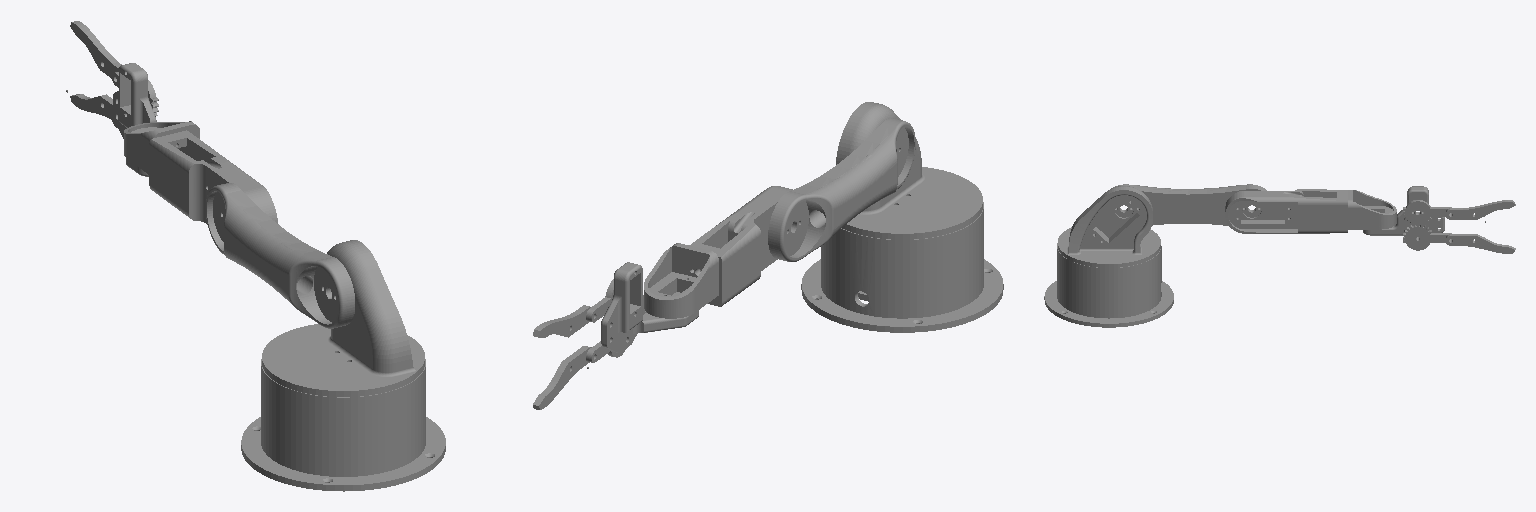
URDF robot description (onshape):
<robot name="onshape">
<link name="base">
<visual>
<origin xyz="0.001402378431521355889 -0.040152130182832479477 0.0047179359060526022268" rpy="-1.57079632679489678 -0 0" />
<geometry>
<mesh filename="package://duman_description/models/base.stl"/>
</geometry>
<material name="base_material">
<color rgba="0.62745098039215685404 0.62745098039215685404 0.62745098039215685404 1.0"/>
</material>
</visual>
<collision>
<origin xyz="0.001402378431521355889 -0.040152130182832479477 0.0047179359060526022268" rpy="-1.57079632679489678 -0 0" />
<geometry>
<mesh filename="package://duman_description/models/base.stl"/>
</geometry>
</collision>
<inertial>
<origin xyz="0.001402387154487819837 -0.039055113999284497839 0.026824037016155939661" rpy="0 0 0"/>
<mass value="1.9998887505119995467" />
<inertia ixx="0.0028505289311519942282" ixy="-7.116077478307083929e-10"  ixz="1.4844253339976727985e-10" iyy="0.0027242990722169493391" iyz="7.9478202315762654052e-05" izz="0.0043475671173903033054" />
</inertial>
</link>

<link name="waist">
<visual>
<origin xyz="0 0 6.9388939039072283776e-18" rpy="3.141592653589793116 -9.5170973626377845172e-34 -7.7783123764239271502e-33" />
<geometry>
<mesh filename="package://duman_description/models/waist.stl"/>
</geometry>
<material name="waist_material">
<color rgba="0.62745098039215685404 0.62745098039215685404 0.62745098039215685404 1.0"/>
</material>
</visual>
<collision>
<origin xyz="0 0 6.9388939039072283776e-18" rpy="3.141592653589793116 -9.5170973626377845172e-34 -7.7783123764239271502e-33" />
<geometry>
<mesh filename="package://duman_description/models/waist.stl"/>
</geometry>
</collision>
<inertial>
<origin xyz="0.0074945384719732385109 -0.0014294797341590967897 -0.019382837320359828925" rpy="0 0 0"/>
<mass value="0.092059501321271233754" />
<inertia ixx="8.4940822070763333154e-05" ixy="3.1823006080747657881e-07"  ixz="8.0371472269756664308e-06" iyy="6.28516293944667595e-05" iyz="-8.4124008803628408945e-06" izz="7.5166939695310772932e-05" />
</inertial>
</link>

<link name="arm_01">
<visual>
<origin xyz="0 0 -0.021000000000000001305" rpy="-1.570796326794896558 -0 0" />
<geometry>
<mesh filename="package://duman_description/models/arm_01.stl"/>
</geometry>
<material name="arm_01_material">
<color rgba="0.62745098039215685404 0.62745098039215685404 0.62745098039215685404 1.0"/>
</material>
</visual>
<collision>
<origin xyz="0 0 -0.021000000000000001305" rpy="-1.570796326794896558 -0 0" />
<geometry>
<mesh filename="package://duman_description/models/arm_01.stl"/>
</geometry>
</collision>
<inertial>
<origin xyz="1.4118928119592636529e-07 0.059999824248745545208 -0.0077715955787856722328" rpy="0 0 0"/>
<mass value="0.080081747849855458576" />
<inertia ixx="0.00012970764013443367049" ixy="6.2337379079985595992e-10"  ixz="1.8765984521855420639e-10" iyy="1.1536398267604721336e-05" iyz="3.6199027491044549358e-12" izz="0.00013579564494234391174" />
</inertial>
</link>

<link name="arm_02">
<visual>
<origin xyz="0.034750000000000016986 0 0" rpy="1.570796326794896558 -5.8276537979193836182e-33 8.3816471179931208447e-31" />
<geometry>
<mesh filename="package://duman_description/models/arm_02.stl"/>
</geometry>
<material name="arm_02_material">
<color rgba="0.62745098039215685404 0.62745098039215685404 0.62745098039215685404 1.0"/>
</material>
</visual>
<collision>
<origin xyz="0.034750000000000016986 0 0" rpy="1.570796326794896558 -5.8276537979193836182e-33 8.3816471179931208447e-31" />
<geometry>
<mesh filename="package://duman_description/models/arm_02.stl"/>
</geometry>
</collision>
<inertial>
<origin xyz="0.041712028774720542879 3.1608016163132355561e-05 -0.0057199411333240688868" rpy="0 0 0"/>
<mass value="0.058871724077163213595" />
<inertia ixx="1.0903197339626600928e-05" ixy="-8.6693131370338083757e-08"  ixz="-5.0399911663230007241e-07" iyy="6.4250083309512761058e-05" iyz="-2.9589785247048074638e-10" izz="6.832931926439171405e-05" />
</inertial>
</link>

<link name="arm_03">
<visual>
<origin xyz="0.004999999999999997502 0 0" rpy="3.141592653589793116 -1.1532389821101088889e-32 -2.6404056403860553927e-32" />
<geometry>
<mesh filename="package://duman_description/models/arm_03.stl"/>
</geometry>
<material name="arm_03_material">
<color rgba="0.62745098039215685404 0.62745098039215685404 0.62745098039215685404 1.0"/>
</material>
</visual>
<collision>
<origin xyz="0.004999999999999997502 0 0" rpy="3.141592653589793116 -1.1532389821101088889e-32 -2.6404056403860553927e-32" />
<geometry>
<mesh filename="package://duman_description/models/arm_03.stl"/>
</geometry>
</collision>
<inertial>
<origin xyz="0.0050459674246820544405 -0.0052709836521303756601 -0.017807944241869835822" rpy="0 0 0"/>
<mass value="0.020587869336073170989" />
<inertia ixx="4.8747901077285755043e-06" ixy="-4.9857010404760316267e-09"  ixz="-1.4442552409285210189e-08" iyy="6.2597253867434255134e-06" iyz="-7.2145292659714469307e-07" izz="3.2611923197073779561e-06" />
</inertial>
</link>

<link name="gripper_base">
<visual>
<origin xyz="-0.040500000000000008216 0.0089999999999999941158 0.016000000000000000333" rpy="-1.570796326794896558 -1.570796326794896558 0" />
<geometry>
<mesh filename="package://duman_description/models/gripper_base.stl"/>
</geometry>
<material name="gripper_base_material">
<color rgba="0.62745098039215685404 0.62745098039215685404 0.62745098039215685404 1.0"/>
</material>
</visual>
<collision>
<origin xyz="-0.040500000000000008216 0.0089999999999999941158 0.016000000000000000333" rpy="-1.570796326794896558 -1.570796326794896558 0" />
<geometry>
<mesh filename="package://duman_description/models/gripper_base.stl"/>
</geometry>
</collision>
<inertial>
<origin xyz="-0.024927882918116345268 0.0064403493394040133013 0.0041575539601085009789" rpy="0 0 0"/>
<mass value="0.020050762012827790665" />
<inertia ixx="4.1262174131169446954e-06" ixy="1.6759752673379916494e-06"  ixz="2.2324216722379258954e-06" iyy="1.1260208646654853469e-05" iyz="-5.0616272175732675626e-07" izz="9.0721203498918214539e-06" />
</inertial>
</link>

<link name="end_effector">
  <visual>
    <geometry>
      <box size="0.001 0.001 0.001"/>
    </geometry>
    <material name="yellow">
      <color rgba="0.5 0.5 0.5 0.1"/>
    </material>
  </visual>
  <collision>
    <geometry>
      <box size="0.001 0.001 0.001"/>
    </geometry>
  </collision>
  <inertial>
    <mass value="0.0"/>
    <inertia ixx="0.0" ixy="0.0" ixz="0.0" iyy="0.0" iyz="0.0" izz="0.0"/>
  </inertial>
</link>

<link name="part_1_gear_2">
<visual>
<origin xyz="0 0 -0.0019999999999999983069" rpy="-1.570796326794896558 -9.1979407139349908072e-32 -2.4613384689265595164e-30" />
<geometry>
<mesh filename="package://duman_description/models/part_1_gear_2.stl"/>
</geometry>
<material name="part_1_gear_2_material">
<color rgba="0.62745098039215685404 0.62745098039215685404 0.62745098039215685404 1.0"/>
</material>
</visual>
<collision>
<origin xyz="0 0 -0.0019999999999999983069" rpy="-1.570796326794896558 -9.1979407139349908072e-32 -2.4613384689265595164e-30" />
<geometry>
<mesh filename="package://duman_description/models/part_1_gear_2.stl"/>
</geometry>
</collision>
<inertial>
<origin xyz="0.0055512025623058831522 0.00058171571194625922626 -0.0019999999999999983069" rpy="0 0 0"/>
<mass value="0.0032272602916286396643" />
<inertia ixx="1.1251893487001180171e-07" ixy="1.042153912886415573e-08"  ixz="5.7266214798550208274e-39" iyy="4.6086035795310490803e-07" iyz="-2.8469444191377108132e-37" izz="5.6477326537877373765e-07" />
</inertial>
</link>

<link name="gripper">
<visual>
<origin xyz="0 1.3877787807814456755e-17 0" rpy="-3.141592653589793116 -3.2279214209219390194e-30 2.7332797770738606552e-30" />
<geometry>
<mesh filename="package://duman_description/models/gripper.stl"/>
</geometry>
<material name="gripper_material">
<color rgba="0.62745098039215685404 0.62745098039215685404 0.62745098039215685404 1.0"/>
</material>
</visual>
<collision>
<origin xyz="0 1.3877787807814456755e-17 0" rpy="-3.141592653589793116 -3.2279214209219390194e-30 2.7332797770738606552e-30" />
<geometry>
<mesh filename="package://duman_description/models/gripper.stl"/>
</geometry>
</collision>
<inertial>
<origin xyz="0.025526730145779431141 -0.0033673571434033786574 -0.0022499977309997721067" rpy="0 0 0"/>
<mass value="0.0031933072162409399143" />
<inertia ixx="7.6192801294376313938e-08" ixy="1.9410217434007387742e-07"  ixz="1.253897990526733417e-13" iyy="9.477187734353013106e-07" iyz="-1.620276003269503519e-13" izz="1.0131339947859868091e-06" />
</inertial>
</link>

<joint name="grip4" type="continuous">
<origin xyz="0.030750000000000027311 0 -0.0040000000000000070222" rpy="1.7163949759338740122e-15 -3.3079810654911678827e-14 1.3981871216373376781e-15" />
<parent link="part_1_gear_2" />
<child link="gripper" />
<axis xyz="0 0 1"/>
<limit effort="1" velocity="20" />
<joint_properties friction="0.0"/>
</joint>

<joint name="grip1" type="continuous">
<origin xyz="-0.038000000000000033751 0.014000000000000002026 0.017900000000000013123" rpy="-1.570796326794896558 -1.3981871216373712047e-15 3.1415926535897913396" />
<parent link="gripper_base" />
<child link="part_1_gear_2" />
<axis xyz="0 0 1"/>
<limit effort="1" velocity="20" />
<joint_properties friction="0.0"/>
</joint>

<link name="part_2_gear_2">
<visual>
<origin xyz="0 0 -0.0019999999999999983069" rpy="1.570796326794896558 -2.481566866632471163e-33 -8.9940928402883914338e-30" />
<geometry>
<mesh filename="package://duman_description/models/part_2_gear_2.stl"/>
</geometry>
<material name="part_2_gear_2_material">
<color rgba="0.62745098039215685404 0.62745098039215685404 0.62745098039215685404 1.0"/>
</material>
</visual>
<collision>
<origin xyz="0 0 -0.0019999999999999983069" rpy="1.570796326794896558 -2.481566866632471163e-33 -8.9940928402883914338e-30" />
<geometry>
<mesh filename="package://duman_description/models/part_2_gear_2.stl"/>
</geometry>
</collision>
<inertial>
<origin xyz="0.0053917110914827020424 -0.00056500245144856992875 -0.0019999999999999983069" rpy="0 0 0"/>
<mass value="0.003322725438389599259" />
<inertia ixx="1.1279348734758980605e-07" ixy="-1.0122118132197549572e-08"  ixz="-3.1966065379980466463e-39" iyy="4.6503598307660309264e-07" iyz="8.4684023355935895053e-38" izz="5.6896886925515397687e-07" />
</inertial>
</link>

<link name="gripper_2">
<visual>
<origin xyz="0 0 -0.0044999999999999970579" rpy="2.7094627295595737167e-31 -8.3317152930019544658e-31 3.0306433604879953617e-30" />
<geometry>
<mesh filename="package://duman_description/models/gripper.stl"/>
</geometry>
<material name="gripper_material">
<color rgba="0.62745098039215685404 0.62745098039215685404 0.62745098039215685404 1.0"/>
</material>
</visual>
<collision>
<origin xyz="0 0 -0.0044999999999999970579" rpy="2.7094627295595737167e-31 -8.3317152930019544658e-31 3.0306433604879953617e-30" />
<geometry>
<mesh filename="package://duman_description/models/gripper.stl"/>
</geometry>
</collision>
<inertial>
<origin xyz="0.025526730145779431141 0.0033673571434033934026 -0.0022500022690002249512" rpy="0 0 0"/>
<mass value="0.0031933072162409399143" />
<inertia ixx="7.6192801294376313938e-08" ixy="-1.9410217434007393036e-07"  ixz="-1.253897990526733417e-13" iyy="9.4771877343530173412e-07" iyz="-1.6202760032695037714e-13" izz="1.0131339947859868091e-06" />
</inertial>
</link>

<joint name="grip3" type="continuous">
<origin xyz="0.030749999999999916289 0 -0.0040000000000000000833" rpy="-5.1491849278015366425e-15 1.1026603551637208921e-14 1.3981871216373475389e-15" />
<parent link="part_2_gear_2" />
<child link="gripper_2" />
<axis xyz="0 0 1"/>
<limit effort="1" velocity="20" />
<joint_properties friction="0.0"/>
</joint>

<joint name="grip2" type="continuous">
<origin xyz="-0.038000000000000033751 0.014000000000000008965 -0.0089999999999999941158" rpy="-1.570796326794896558 -8.9940928402883914338e-30 3.141592653589793116" />
<parent link="gripper_base" />
<child link="part_2_gear_2" />
<axis xyz="0 0 1"/>
<limit effort="1" velocity="20" />
<joint_properties friction="0.0"/>
</joint>

<joint name="wrist" type="continuous">
<origin xyz="0.0049999999999999905631 -0.014000000000000054068 -0.028000000000000108136" rpy="-1.5707963267948950037 -1.570796326794896336 0" />
<parent link="arm_03" />
<child link="gripper_base" />
<axis xyz="0 0 1"/>
<limit effort="1" velocity="20" />
<joint_properties friction="0.0"/>
</joint>

<joint name="wrist_yaw" type="continuous">
<origin xyz="0.089750000000000010325 -0.0052999999999999714007 -0.005500000000000004885" rpy="-3.141592653589793116 1.5707963267948956698 0" />
<parent link="arm_02" />
<child link="arm_03" />
<axis xyz="0 0 1"/>
<limit effort="1" velocity="20" />
<joint_properties friction="0.0"/>
</joint>

<joint name="elbow" type="continuous">
<origin xyz="-2.7755575615628913511e-17 0.11999999999999999556 6.9388939039072283776e-18" rpy="-3.141592653589793116 1.1301280603407945073e-16 1.570796326794896336" />
<parent link="arm_01" />
<child link="arm_02" />
<axis xyz="0 0 1"/>
<limit effort="1" velocity="20" />
<joint_properties friction="0.0"/>
</joint>

<joint name="shoulder" type="continuous">
<origin xyz="0.0040000000000000009506 -0.013910000000000002224 -0.040280000000000003302" rpy="3.141592653589793116 -1.570796326794866804 0" />
<parent link="waist" />
<child link="arm_01" />
<axis xyz="0 0 1"/>
<limit effort="1" velocity="20" />
<joint_properties friction="0.0"/>
</joint>

<joint name="hip" type="continuous">
<origin xyz="0.0014023784315213543711 -0.040152130182832479477 0.060717935906052615536" rpy="3.141592653589793116 2.419538725682435286e-17 1.3877787807813837993e-16" />
<parent link="base" />
<child link="waist" />
<axis xyz="0 0 1"/>
<limit effort="1" velocity="20" />
<joint_properties friction="0.0"/>
</joint>

<joint name="end_effector_joint" type="continuous">
<origin xyz="-0.1015213543711 0.0 0.0" rpy="0.0 2.419538725682435286e-17 1.3877787807813837993e-16" />
<parent link="gripper_base" />
<child link="end_effector" />
<axis xyz="1 0 0"/>
<limit effort="1" velocity="20" />
<joint_properties friction="0.0"/>
</joint>

</robot>

--- Facts derived from the render (not from the file) ---
Views: 3 orthographic renders of the robot side by side, from view 1: azimuth 30°, elevation 25°; view 2: azimuth 150°, elevation 25°; view 3: azimuth 270°, elevation 25°.
Robot: onshape — 11 links, 10 joints (10 continuous); root link base; default pose: all joints at 0.
Links seen in each view (by area): view 1: base, waist, arm_01, arm_02, gripper_base, arm_03, gripper, gripper_2; view 2: base, arm_01, waist, arm_02, arm_03, gripper_base, gripper_2, gripper; view 3: base, waist, arm_02, arm_01, arm_03, gripper_base, gripper_2, gripper, part_1_gear_2, part_2_gear_2.
Link boxes in pixels (x1=…): base: x1=241, y1=359, x2=445, y2=491; waist: x1=262, y1=240, x2=424, y2=396; arm_01: x1=206, y1=183, x2=354, y2=328; arm_02: x1=149, y1=130, x2=277, y2=224; gripper_base: x1=113, y1=63, x2=156, y2=176; arm_03: x1=124, y1=121, x2=199, y2=174; gripper: x1=70, y1=21, x2=121, y2=78; gripper_2: x1=70, y1=94, x2=112, y2=119; base: x1=801, y1=202, x2=1003, y2=332; arm_01: x1=768, y1=118, x2=915, y2=261; waist: x1=836, y1=102, x2=982, y2=239; arm_02: x1=689, y1=186, x2=792, y2=306; arm_03: x1=644, y1=243, x2=718, y2=318; gripper_base: x1=601, y1=262, x2=698, y2=352; gripper_2: x1=533, y1=346, x2=591, y2=409; gripper: x1=533, y1=305, x2=590, y2=337; base: x1=1044, y1=243, x2=1173, y2=327; waist: x1=1058, y1=186, x2=1160, y2=267; arm_02: x1=1225, y1=189, x2=1347, y2=233; arm_01: x1=1111, y1=184, x2=1266, y2=225; arm_03: x1=1348, y1=190, x2=1396, y2=229; gripper_base: x1=1363, y1=186, x2=1444, y2=238; gripper_2: x1=1446, y1=234, x2=1515, y2=253; gripper: x1=1446, y1=200, x2=1515, y2=219; part_1_gear_2: x1=1403, y1=200, x2=1451, y2=226; part_2_gear_2: x1=1403, y1=225, x2=1451, y2=250.
Size in the robot's own frame: 0.1215 by 0.4417 by 0.1269 metres.
10 mesh visuals loaded from 9 distinct referenced files (9 binary STL).
